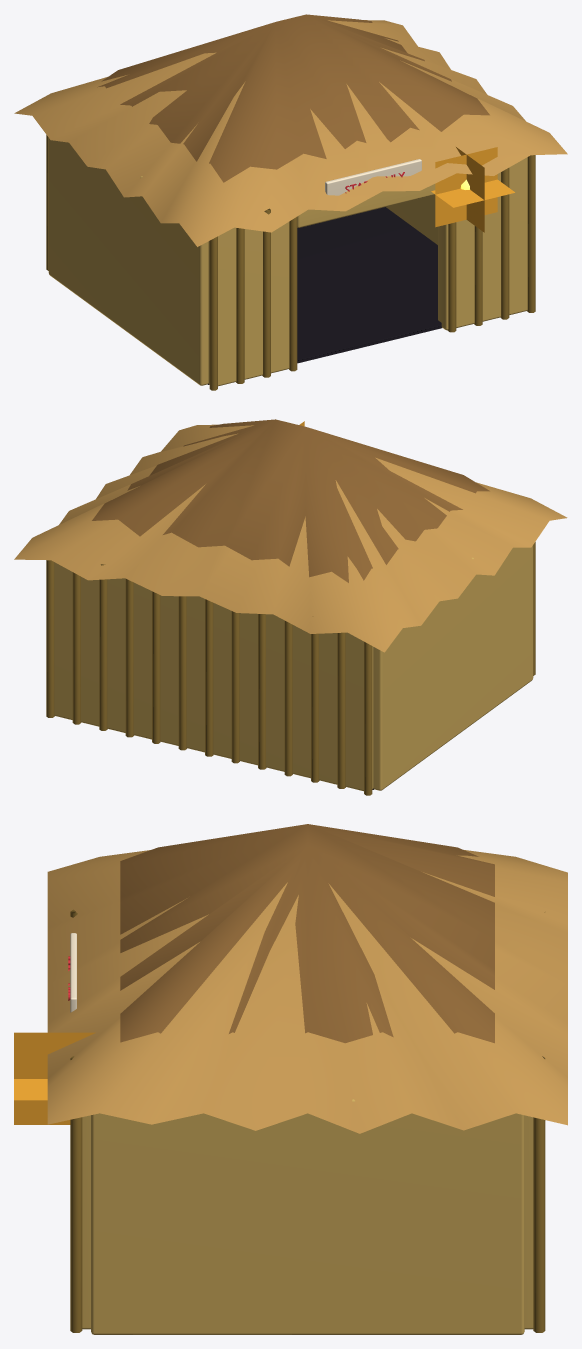
The model's file is lava_staff_hut.glb.
The picture shows the model from 3 angles, top to bottom: view 1: azimuth 30°, elevation 25°; view 2: azimuth 150°, elevation 25°; view 3: azimuth 270°, elevation 25°; orthographic projection. The views are drawn at different scales.
Parts seen in each view (by area): view 1: StaffHut; view 2: StaffHut; view 3: StaffHut.
Part boxes in pixels (box(x1,y1,x2,y2)): StaffHut: box(14, 14, 567, 390); StaffHut: box(14, 419, 567, 795); StaffHut: box(14, 824, 567, 1334).
Bounding box in the file's own units: 7 × 4.92 × 6.39.
